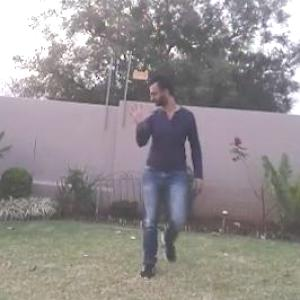follow_hand: (123, 98, 147, 128)
